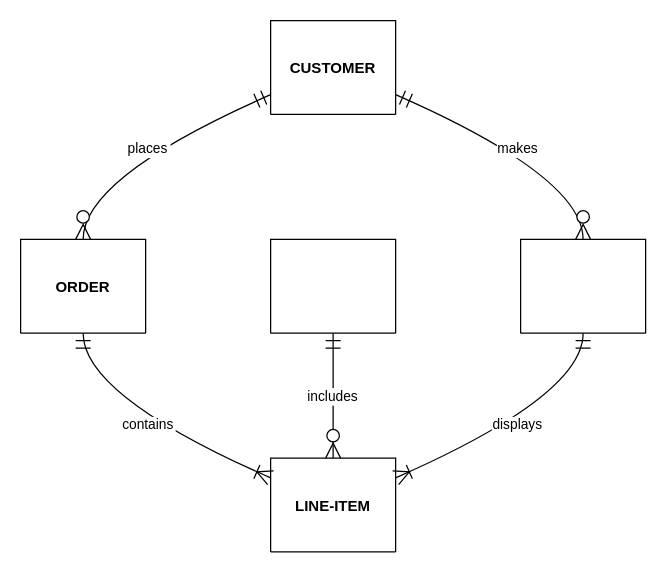
The diagram is 666 pixels wide and 573 high, and some of its shapes have lost their labels. Each missing label, with the box of its shape:
PAYMENT: (519, 238, 646, 333)
PRODUCT: (269, 238, 396, 333)
